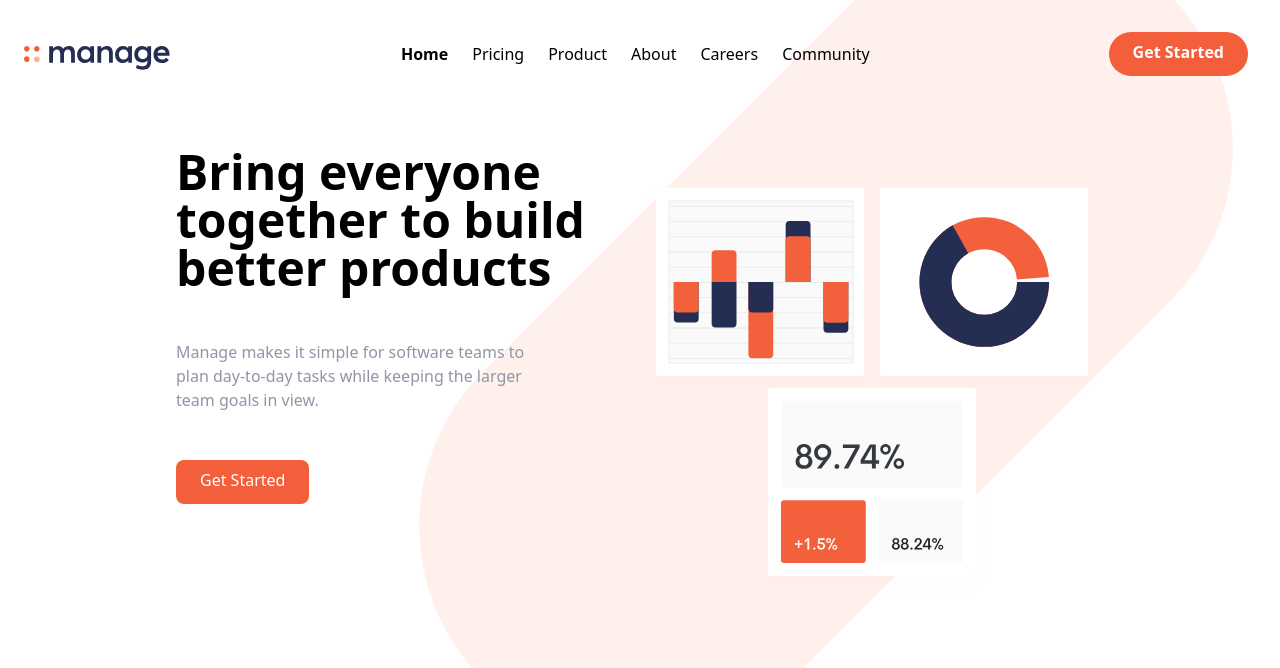
Scenario: Navigation › should navigate to the about page
Click the text "About" at (654, 54), box [631,42,676,66]
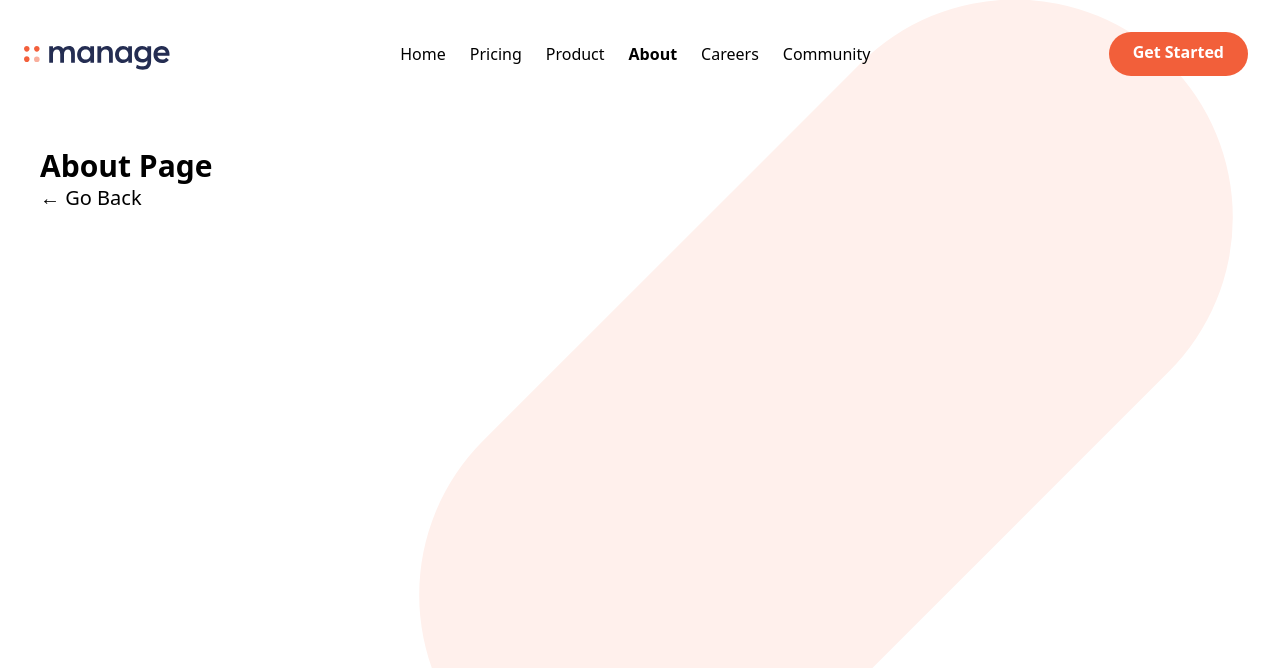
Expected: the heading "About Page" is shown, [40,148,212,184]
